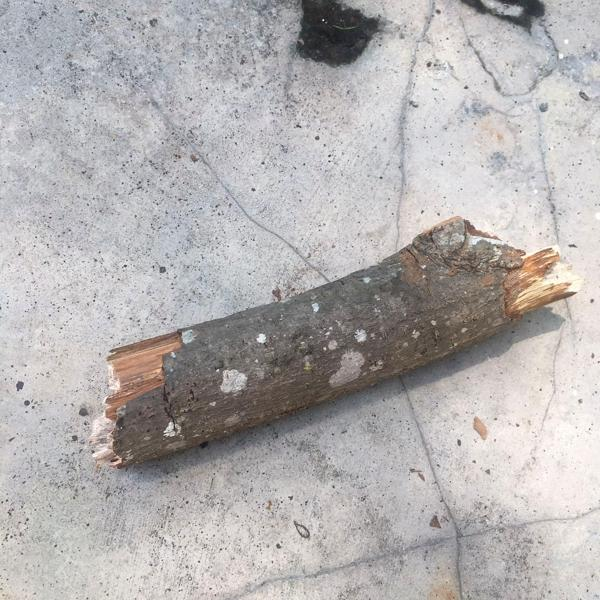Organik: (67, 222, 577, 470)
